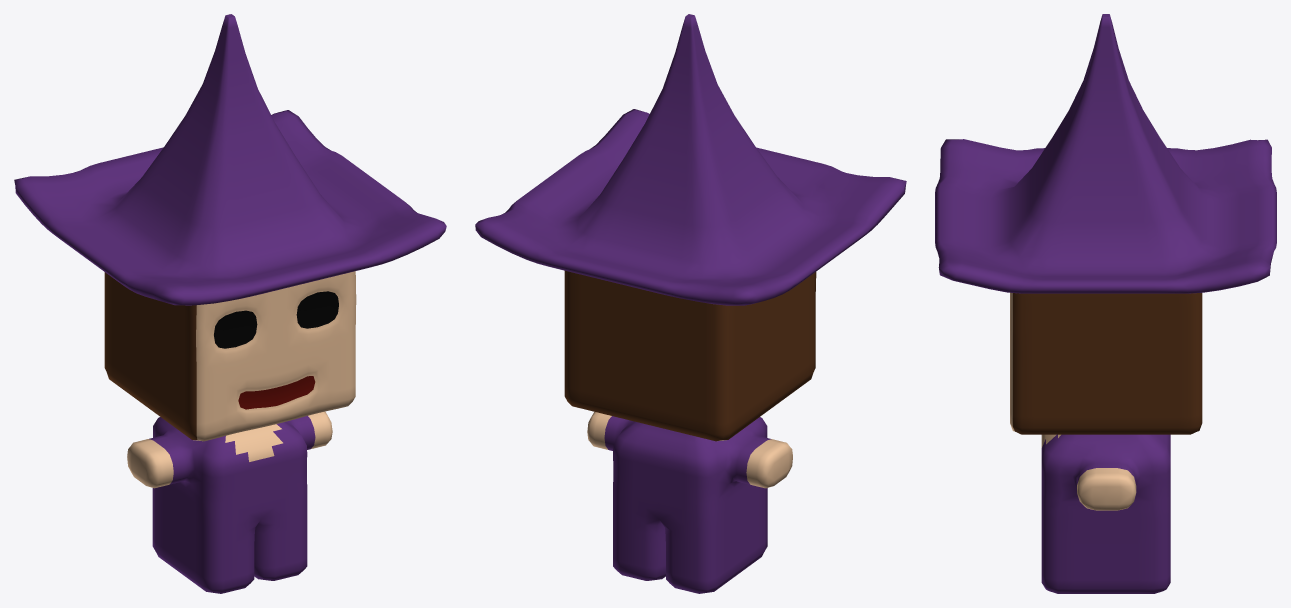
Rendered from WizardQuartz.FBX.
3 renders of one model, left to right at view 1: azimuth 30°, elevation 25°; view 2: azimuth 150°, elevation 25°; view 3: azimuth 270°, elevation 25°, orthographic.
Parts seen in each view (by area): view 1: NPCMagic; view 2: NPCMagic; view 3: NPCMagic.
Part boxes in pixels (x1,y1,x2,y2): NPCMagic: (14, 14, 446, 593); NPCMagic: (475, 14, 906, 593); NPCMagic: (935, 14, 1276, 593).
Bounding box in the file's own units: 1.76 × 3.19 × 1.77.
